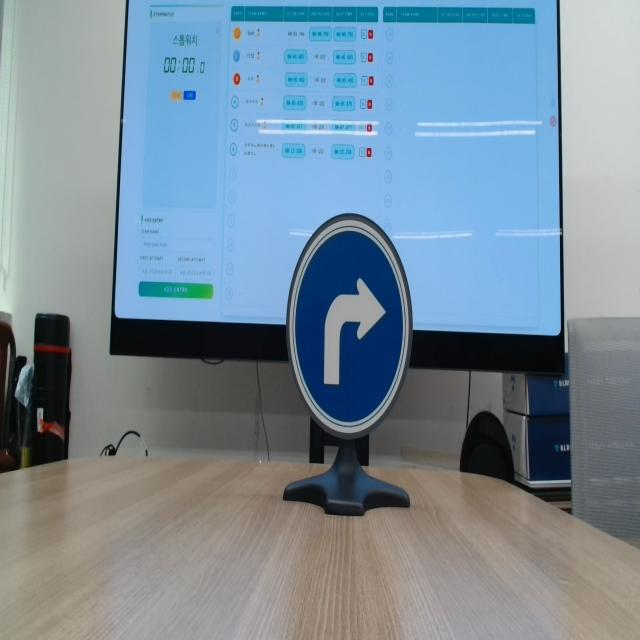right_dierection: (278, 181, 427, 464)
